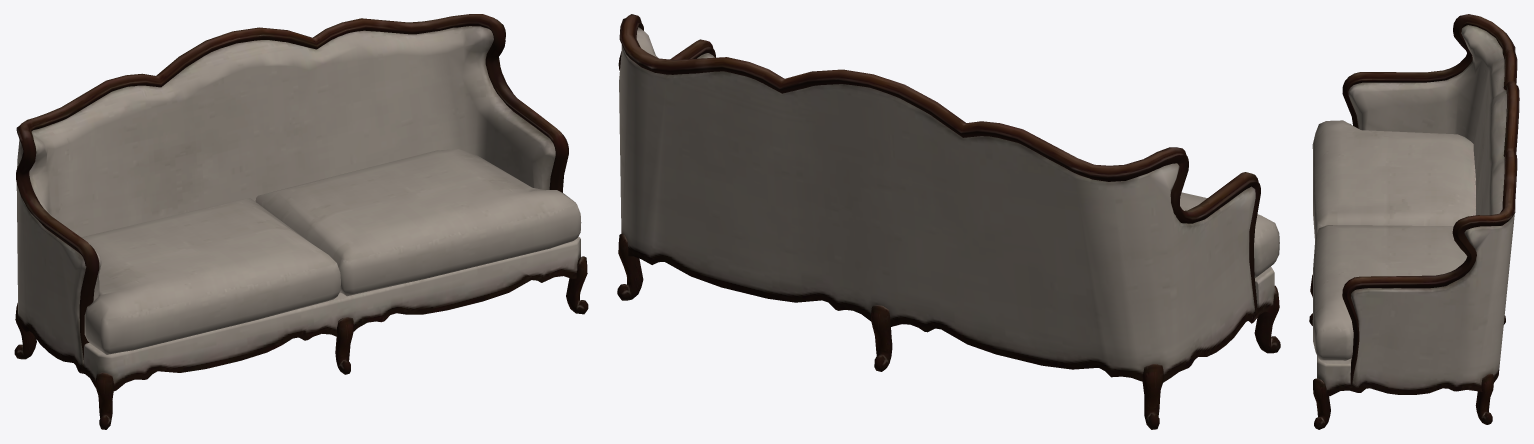
File: Sofa_01.glb
3 views of the same model, side by side, from view 1: azimuth 30°, elevation 25°; view 2: azimuth 150°, elevation 25°; view 3: azimuth 270°, elevation 25° (orthographic). The views are drawn at different scales.
Parts seen in each view (by area): view 1: Sofa_01; view 2: Sofa_01; view 3: Sofa_01.
Part boxes in pixels (x1,y1,x2,y2): Sofa_01: [14, 14, 588, 429]; Sofa_01: [617, 14, 1280, 429]; Sofa_01: [1309, 14, 1519, 429].
Size of the model in its own units: 1.57 by 0.7966 by 0.658.
Materials: 1 (1 with a texture image).
